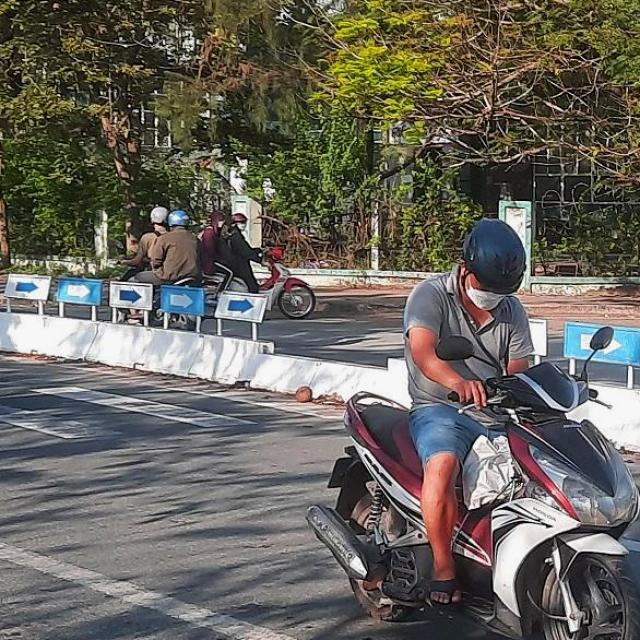Helmet: (459, 218, 528, 302)
